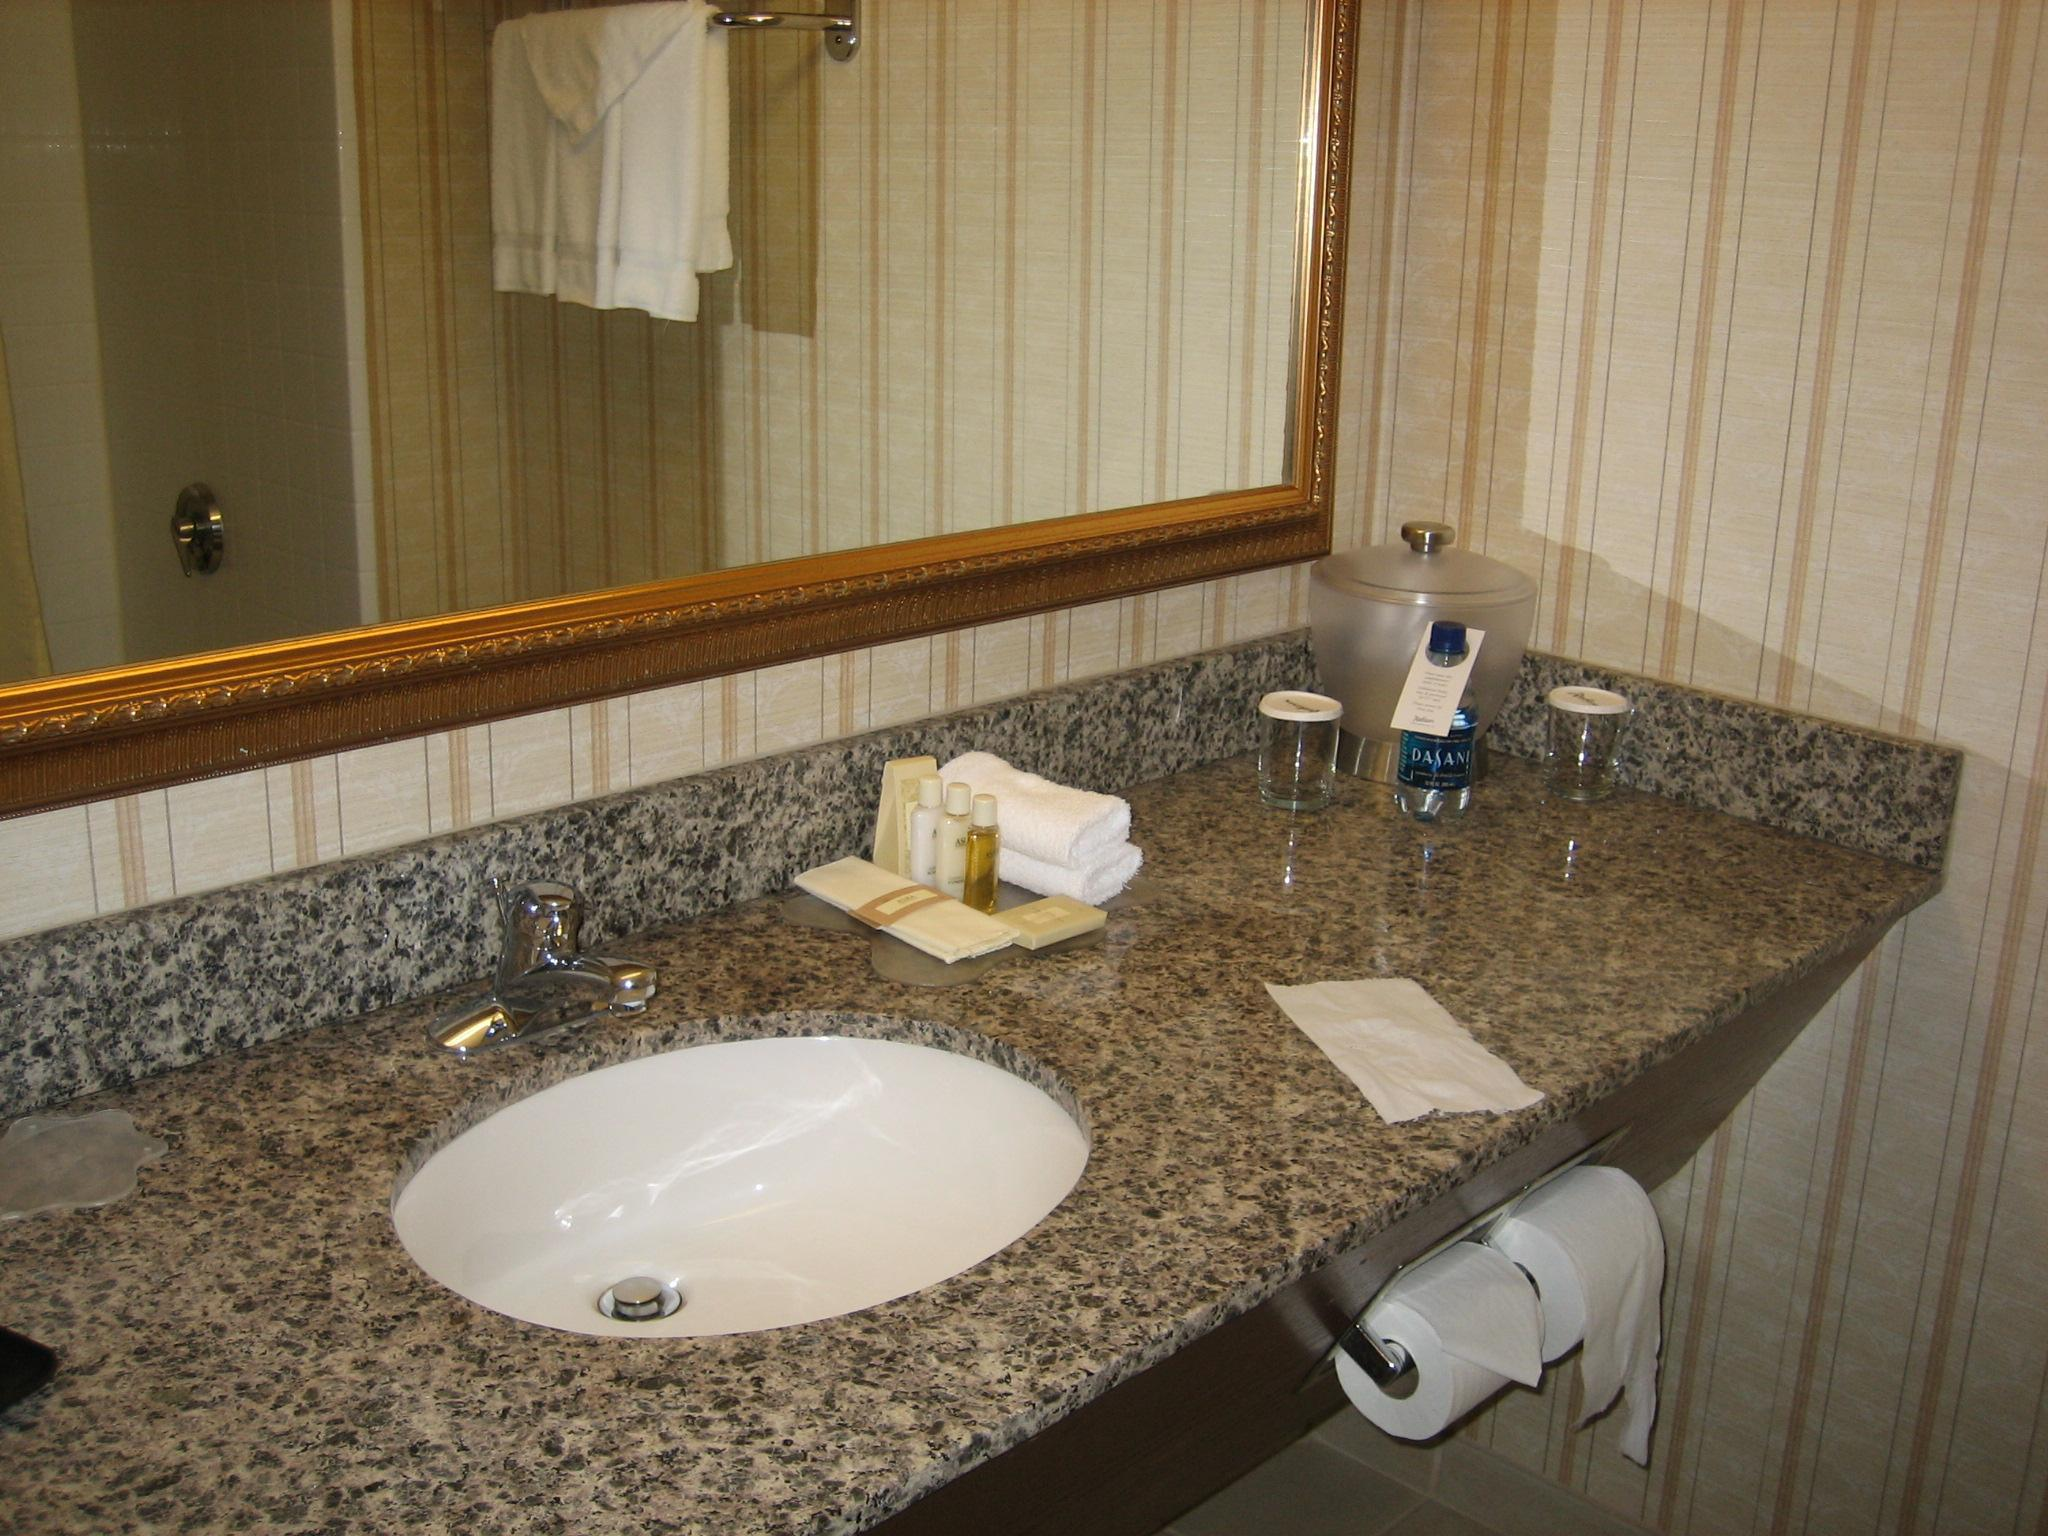Lavamanos: (337, 849, 1143, 1378)
